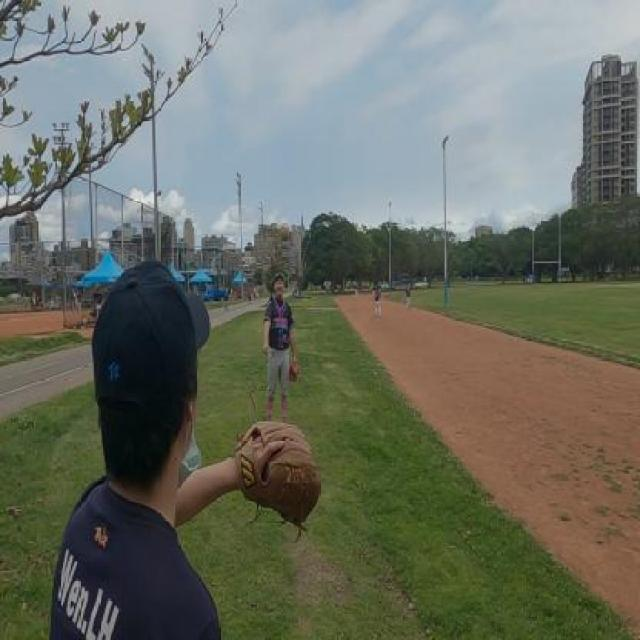baseball: (279, 222, 290, 242)
